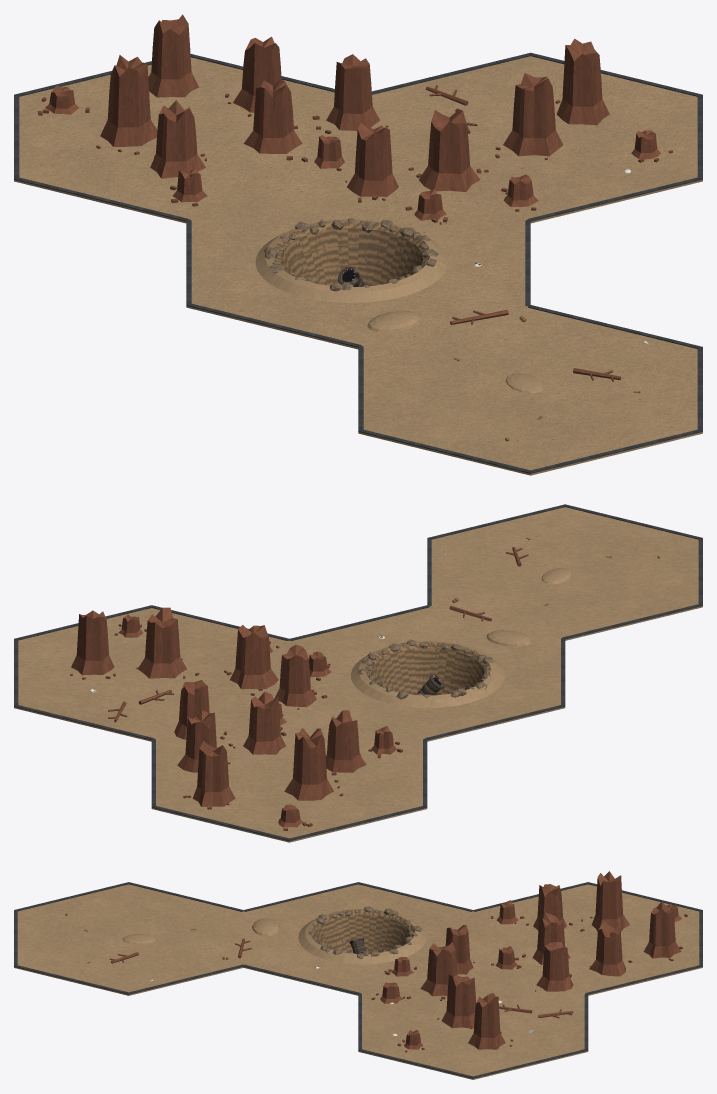
File: WasteHex_Spiral.glb
The picture shows the model from 3 angles, top to bottom: view 1: azimuth 30°, elevation 25°; view 2: azimuth 150°, elevation 25°; view 3: azimuth 270°, elevation 25°; orthographic projection. The views are drawn at different scales.
Parts seen in each view (by area): view 1: WasteHex_Spiral_Ground, WasteHex_Spiral_Prop_Petrified, WasteHex_Spiral_GroundTrim, WasteHex_Spiral_Prop_PitWall, WasteHex_Spiral_Prop_PitRim, WasteHex_Spiral_Prop_Rock, WasteHex_Spiral_Prop_Drift, WasteHex_Spiral_Prop_Branch; view 2: WasteHex_Spiral_Ground, WasteHex_Spiral_Prop_Petrified, WasteHex_Spiral_GroundTrim, WasteHex_Spiral_Prop_PitWall, WasteHex_Spiral_Prop_PitRim, WasteHex_Spiral_Prop_Rock, WasteHex_Spiral_Prop_Drift, WasteHex_Spiral_Prop_Branch; view 3: WasteHex_Spiral_Ground, WasteHex_Spiral_Prop_Petrified, WasteHex_Spiral_GroundTrim, WasteHex_Spiral_Prop_PitWall, WasteHex_Spiral_Prop_PitRim, WasteHex_Spiral_Prop_Rock, WasteHex_Spiral_Prop_Drift, WasteHex_Spiral_Prop_Branch.
Boxes of the visible parts, x1,y1,x2,y2 form: WasteHex_Spiral_Ground: (14,56,702,475); WasteHex_Spiral_Prop_Petrified: (38,14,672,224); WasteHex_Spiral_GroundTrim: (14,52,702,473); WasteHex_Spiral_Prop_PitWall: (274,220,429,286); WasteHex_Spiral_Prop_PitRim: (255,219,447,302); WasteHex_Spiral_Prop_Rock: (263,218,438,291); WasteHex_Spiral_Prop_Drift: (367,310,544,393); WasteHex_Spiral_Prop_Branch: (426,85,621,381); WasteHex_Spiral_Ground: (14,507,702,842); WasteHex_Spiral_Prop_Petrified: (70,607,402,830); WasteHex_Spiral_GroundTrim: (14,504,702,841); WasteHex_Spiral_Prop_PitWall: (365,642,490,694); WasteHex_Spiral_Prop_PitRim: (351,641,504,708); WasteHex_Spiral_Prop_Rock: (357,639,493,699); WasteHex_Spiral_Prop_Drift: (486,568,572,646); WasteHex_Spiral_Prop_Branch: (108,547,528,722); WasteHex_Spiral_Ground: (14,884,702,1079); WasteHex_Spiral_Prop_Petrified: (371,871,687,1052); WasteHex_Spiral_GroundTrim: (14,882,702,1078); WasteHex_Spiral_Prop_PitWall: (310,909,414,952); WasteHex_Spiral_Prop_PitRim: (298,909,426,964); WasteHex_Spiral_Prop_Rock: (308,906,422,958); WasteHex_Spiral_Prop_Drift: (122,918,279,944); WasteHex_Spiral_Prop_Branch: (109,938,573,1018).
Bounding box in the file's own units: 21 × 4.37 × 31.18.
Materials: 13 (13 with a texture image).
